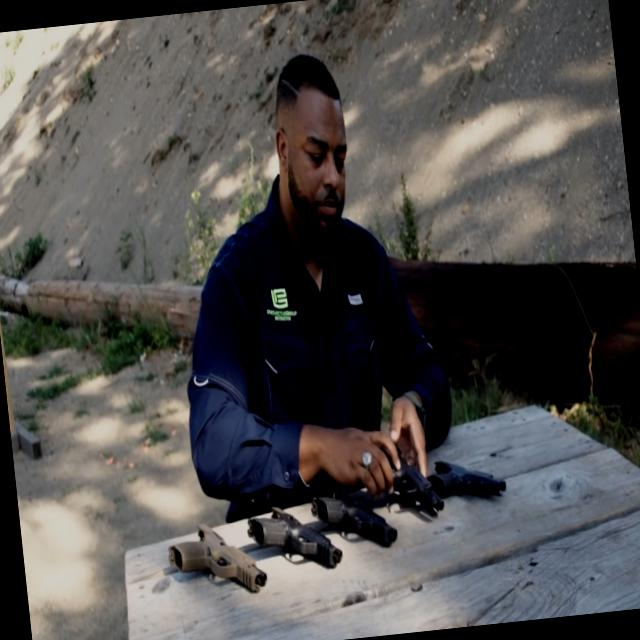handgun: (242, 490, 360, 590), (161, 512, 272, 610), (371, 416, 456, 530), (314, 476, 414, 560), (422, 442, 514, 504)
